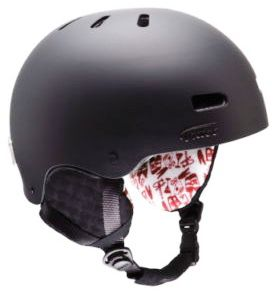helmet: (15, 12, 257, 196)
